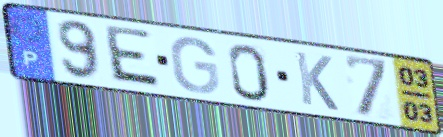0: (225, 42, 273, 103)
7: (343, 53, 391, 120)
9: (55, 19, 102, 82)
E: (104, 23, 165, 92)
G: (168, 35, 222, 96)
K: (293, 49, 342, 114)
